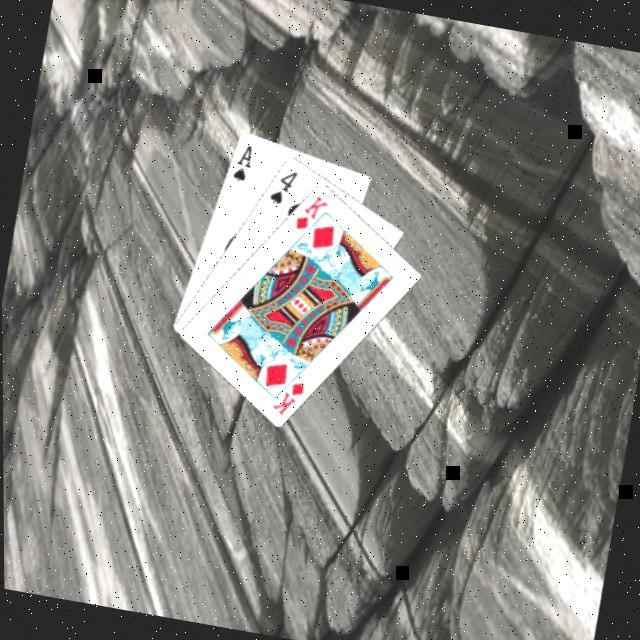4S: (264, 164, 302, 210)
AS: (228, 139, 258, 186)
KD: (290, 188, 333, 238), (267, 374, 308, 422)
